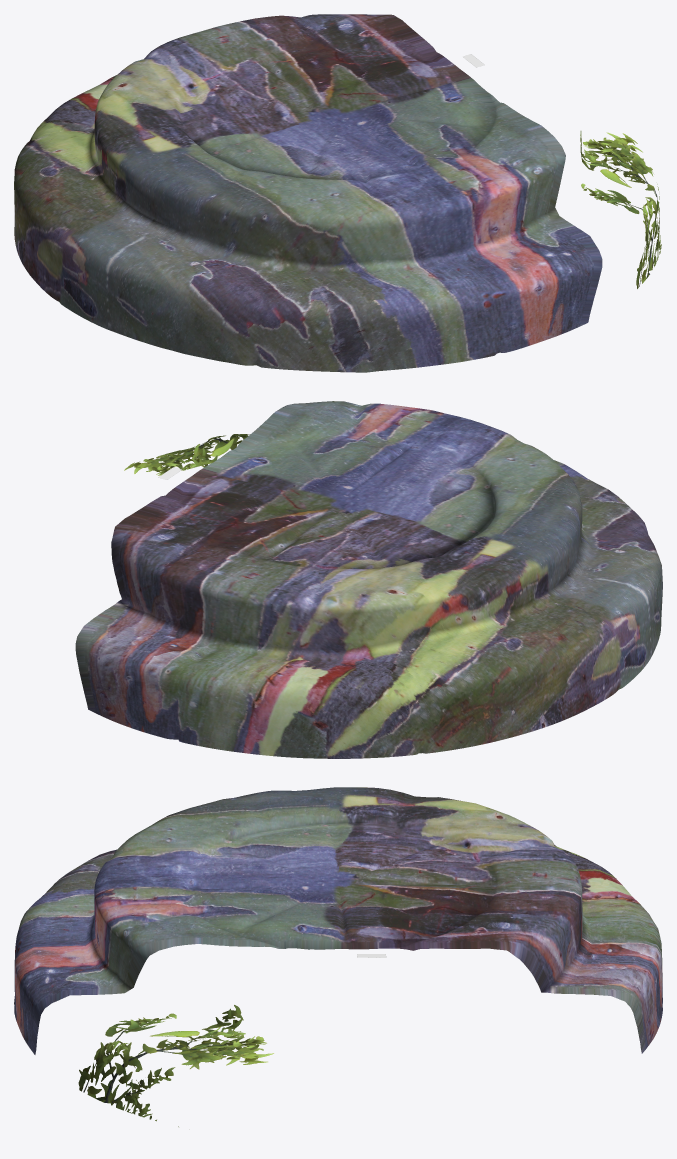
Rendered from stone.fbx.
3 renders of one model, top to bottom at view 1: azimuth 30°, elevation 25°; view 2: azimuth 150°, elevation 25°; view 3: azimuth 270°, elevation 25°, orthographic.
Visible parts, largest first — view 1: round_stone; view 2: round_stone; view 3: round_stone.
Boxes of the visible parts, x1,y1,x2,y2 form: round_stone: [14, 14, 661, 372]; round_stone: [75, 401, 662, 758]; round_stone: [14, 787, 662, 1126].
Size of the model in its own units: 11.04 by 2.43 by 11.04.
